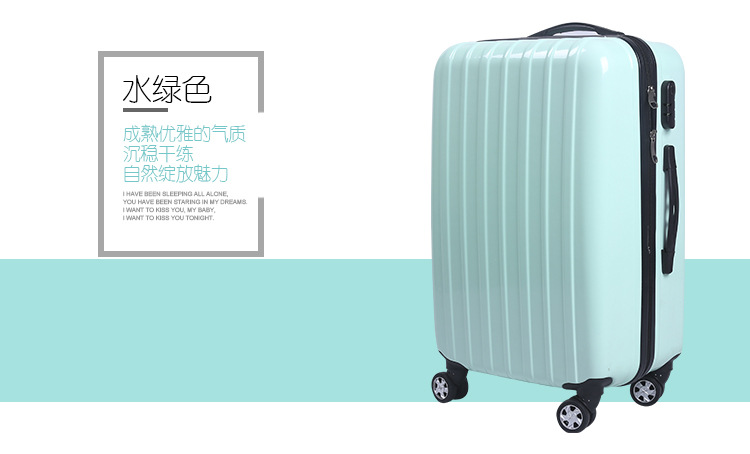suitcase: (429, 22, 689, 436)
